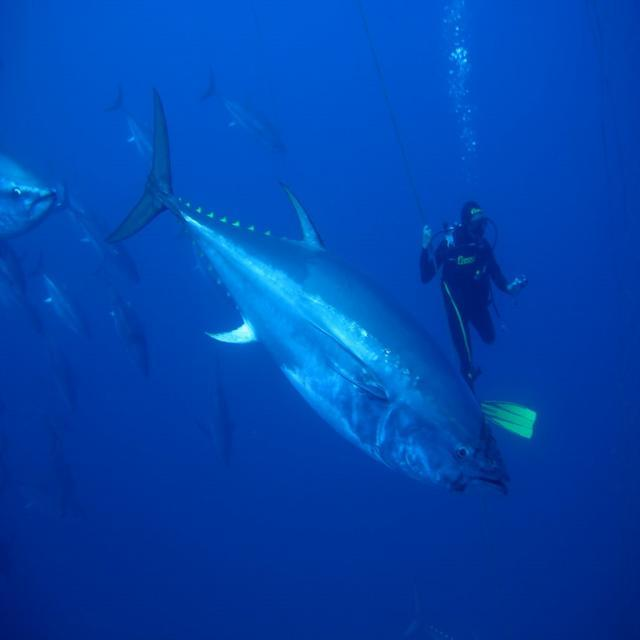Shark: (126, 98, 487, 502)
